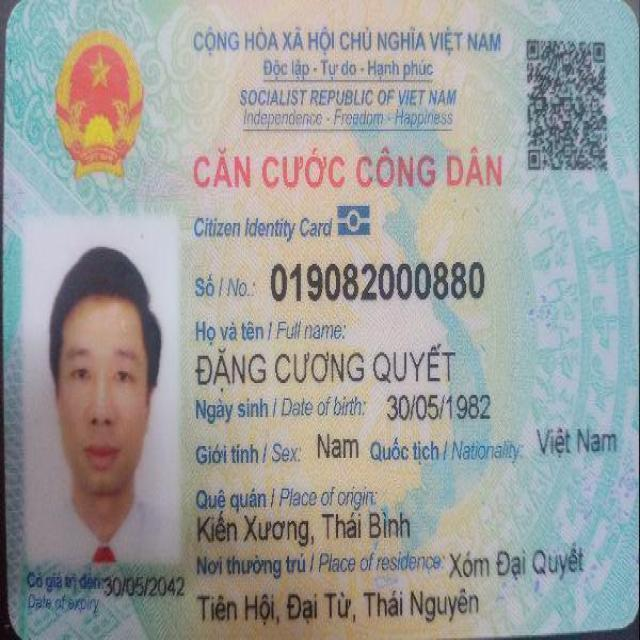current_place: (197, 584, 481, 628), (448, 539, 587, 583)
dob: (385, 383, 493, 424)
expire_date: (102, 569, 185, 601)
gender: (316, 430, 359, 466)
id: (265, 254, 484, 307)
name: (194, 341, 457, 394)
nationality: (533, 419, 622, 458)
origin_place: (194, 509, 413, 545)
